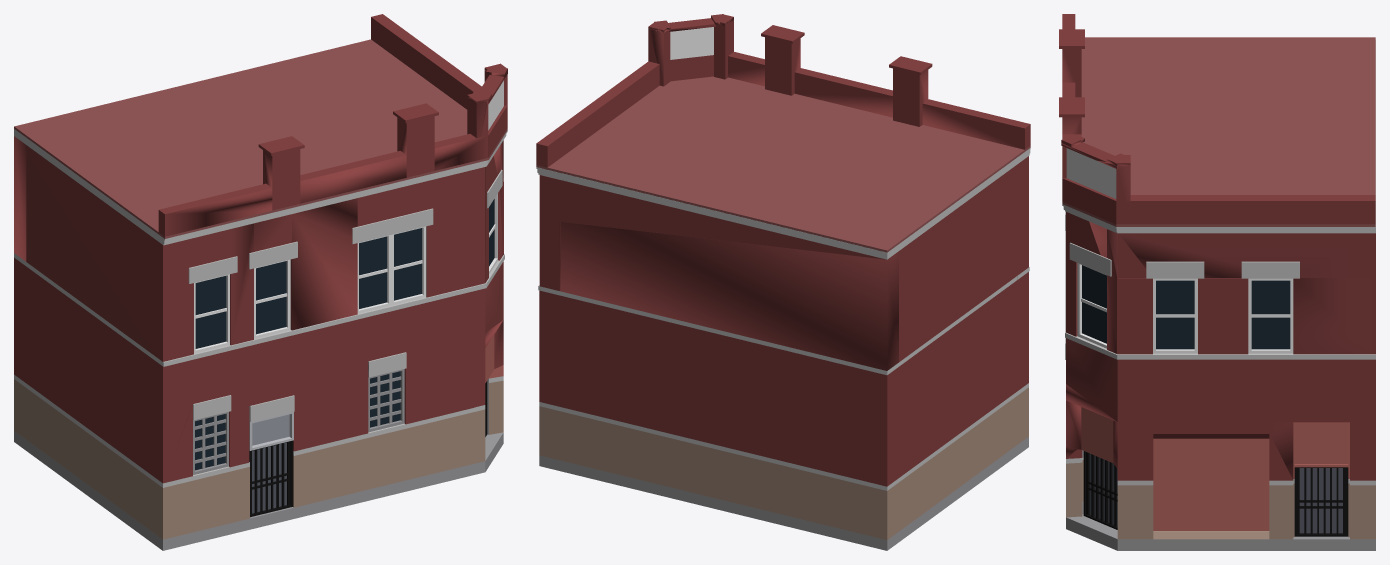
The model's file is pho-nha-nga-ba.glb.
3 renders of one model, left to right at view 1: azimuth 30°, elevation 25°; view 2: azimuth 150°, elevation 25°; view 3: azimuth 270°, elevation 25°, orthographic. The views are drawn at different scales.
Visible parts, largest first — view 1: pho-nha-nga-ba; view 2: pho-nha-nga-ba; view 3: pho-nha-nga-ba.
Part boxes in pixels (x1=…): pho-nha-nga-ba: x1=14, y1=14, x2=507, y2=550; pho-nha-nga-ba: x1=536, y1=14, x2=1030, y2=550; pho-nha-nga-ba: x1=1059, y1=14, x2=1375, y2=550.
Size of the model in its own units: 34.37 by 33.3 by 24.55.
